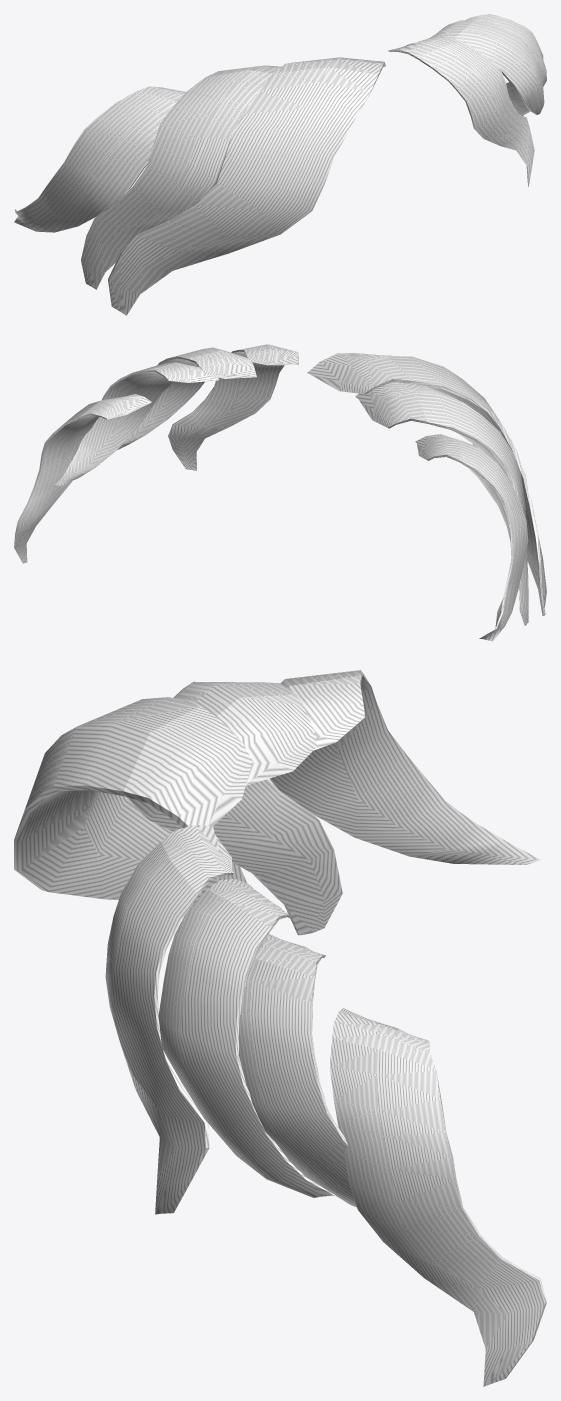
Rendered from tri_Rhina_hair_end.fbx.
3 renders of one model, top to bottom at view 1: azimuth 30°, elevation 25°; view 2: azimuth 150°, elevation 25°; view 3: azimuth 270°, elevation 25°, orthographic. The views are drawn at different scales.
Visible parts, largest first — view 1: tri_Rhina_hair; view 2: tri_Rhina_hair; view 3: tri_Rhina_hair.
Part boxes in pixels (<box>): tri_Rhina_hair: <box>14,14,546,315</box>; tri_Rhina_hair: <box>14,344,546,641</box>; tri_Rhina_hair: <box>14,670,546,1386</box>.
Size of the model in its own units: 1.1 by 0.4615 by 0.5574.
Materials: 1 (1 with a texture image).
